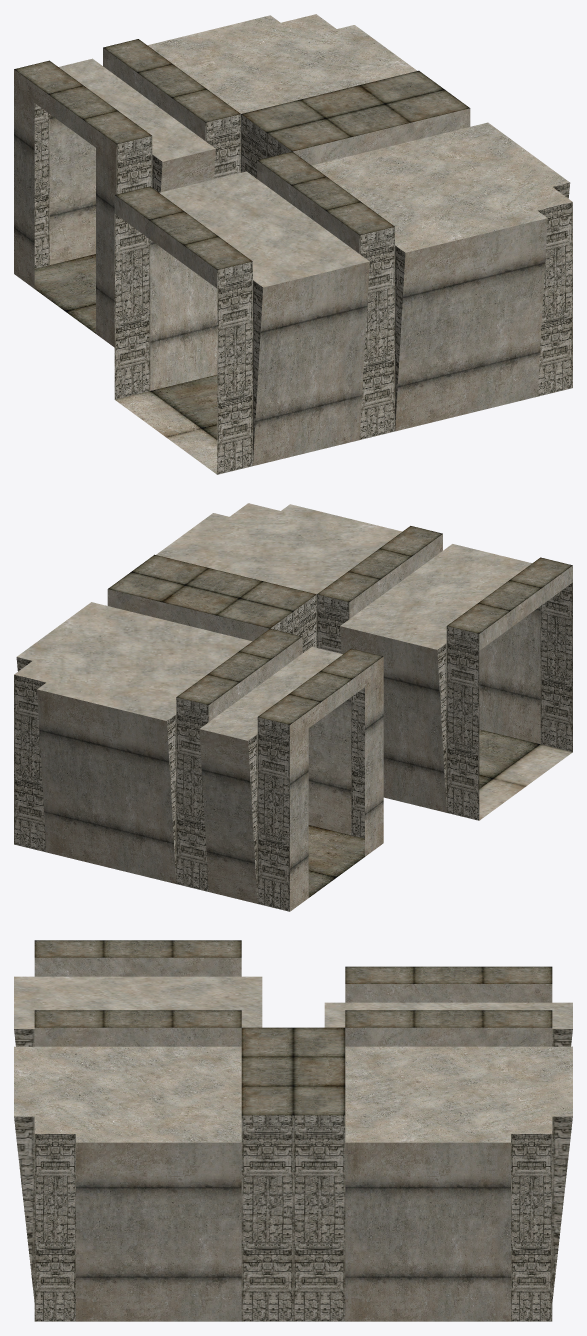
The model's file is thm_yavn_great_massassi_temple_r8_hall3_mesh_r8.fbx.
The picture shows the model from 3 angles, top to bottom: view 1: azimuth 30°, elevation 25°; view 2: azimuth 150°, elevation 25°; view 3: azimuth 270°, elevation 25°; orthographic projection. The views are drawn at different scales.
Parts seen in each view (by area): view 1: mesh_node; view 2: mesh_node; view 3: mesh_node.
Boxes of the visible parts, box(x1,y1,x2,y2) form: mesh_node: box(14, 14, 572, 474); mesh_node: box(14, 503, 572, 911); mesh_node: box(14, 940, 572, 1321).
Bounding box in the file's own units: 10.5 × 5.5 × 13.5.
